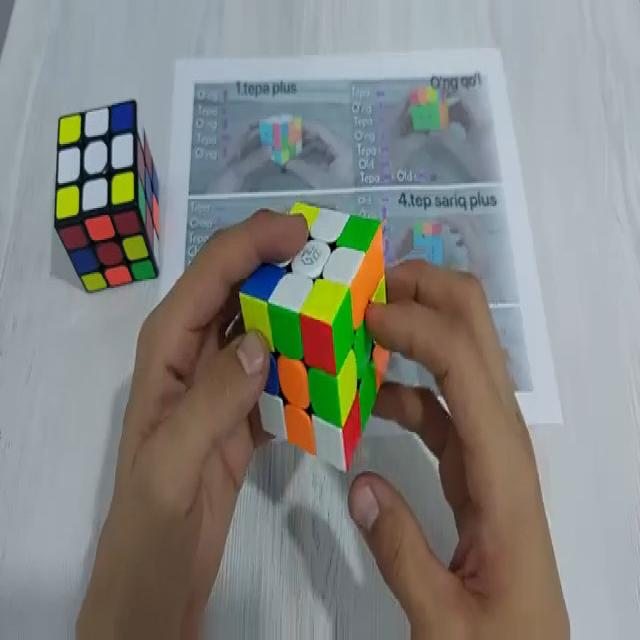Rub: (236, 200, 391, 477), (55, 100, 160, 293)
